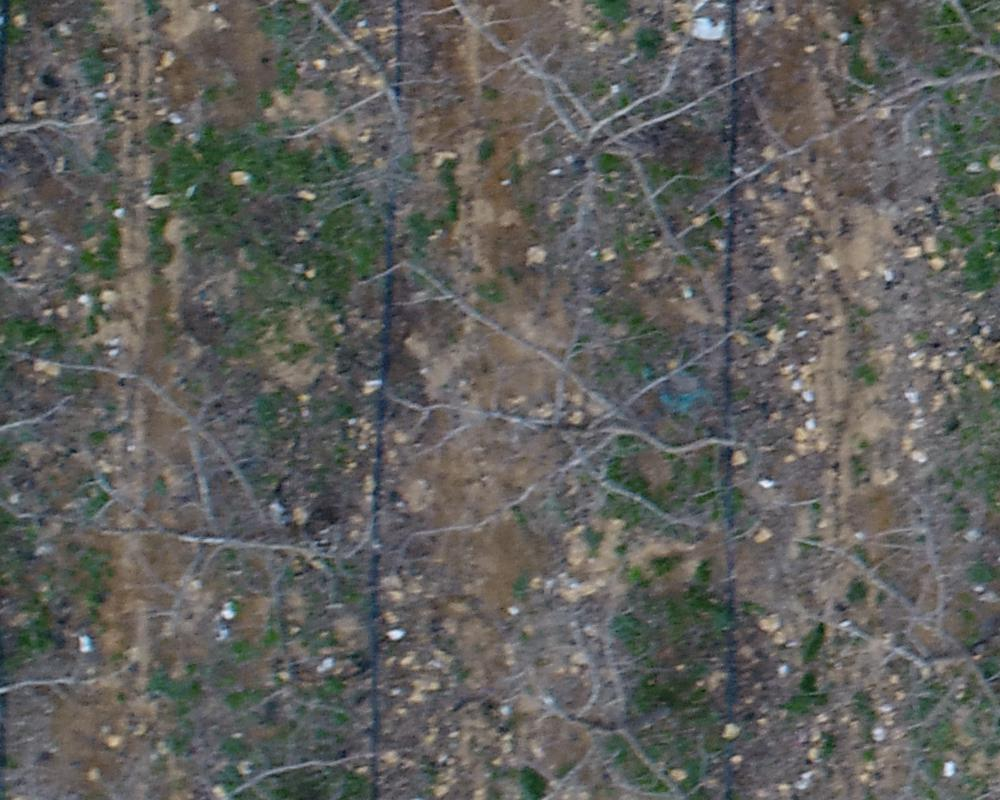apple: (343, 255, 776, 566), (10, 333, 381, 658), (437, 590, 828, 790), (794, 414, 990, 790), (490, 10, 746, 295), (757, 10, 990, 310)
